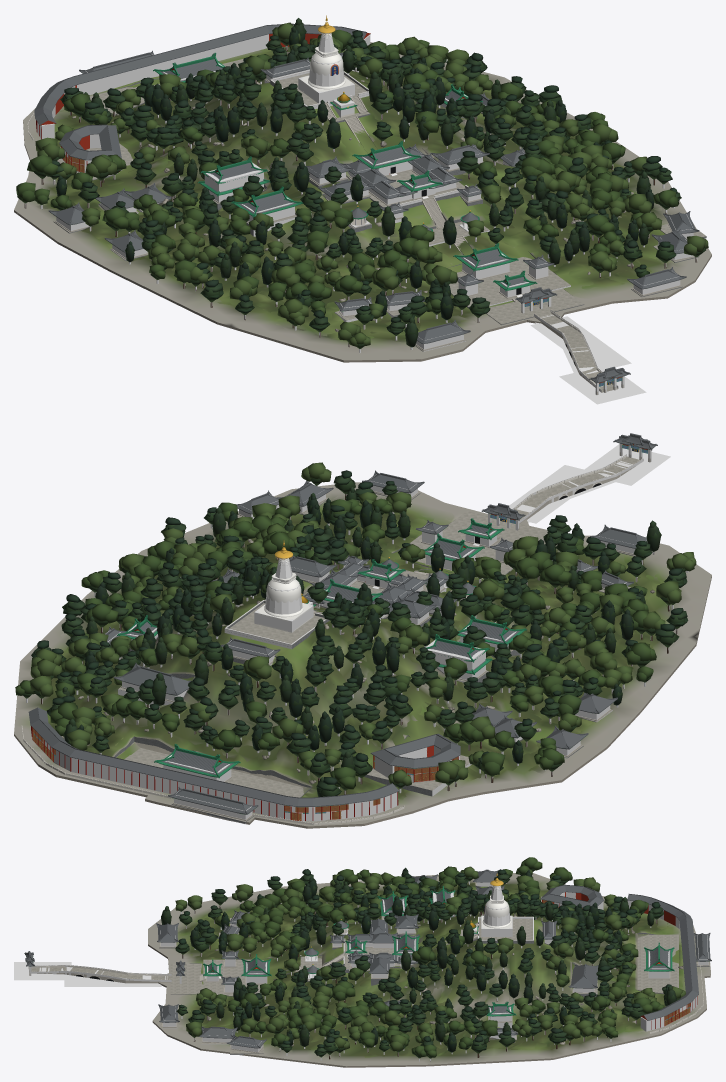
File: baita.glb
The picture shows the model from 3 angles, top to bottom: view 1: azimuth 30°, elevation 25°; view 2: azimuth 150°, elevation 25°; view 3: azimuth 270°, elevation 25°; orthographic projection. The views are drawn at different scales.
Visible parts, largest first — view 1: Massing, Island, Hill, COL_range.006, CLEAR_landing, CLEAR_span, COL_hall.020, COL_sumeru; view 2: Massing, Island, Hill, COL_range.006, CLEAR_landing, CLEAR_span, COL_hall.020, COL_sumeru; view 3: Massing, Hill, Island, CLEAR_landing, CLEAR_span.
Boxes of the visible parts, x1,y1,x2,y2 form: Massing: (14, 15, 711, 392); Island: (34, 16, 699, 394); Hill: (23, 46, 711, 362); COL_range.006: (77, 34, 268, 94); CLEAR_landing: (559, 364, 646, 404); CLEAR_span: (530, 316, 631, 370); COL_hall.020: (204, 162, 263, 202); COL_sumeru: (298, 75, 354, 103); Massing: (14, 458, 711, 828); Island: (28, 433, 657, 823); Hill: (14, 494, 711, 828); COL_range.006: (71, 757, 284, 818); CLEAR_landing: (579, 444, 670, 485); CLEAR_span: (509, 465, 590, 523); COL_hall.020: (426, 639, 485, 679); COL_sumeru: (254, 602, 313, 632); Massing: (34, 871, 710, 1067); Hill: (148, 883, 710, 1067); Island: (24, 869, 711, 1052); CLEAR_landing: (14, 962, 71, 980); CLEAR_span: (64, 973, 161, 986).
Bounding box in the file's own units: 254 × 66.97 × 387.
Materials: 19 (7 with a texture image).
